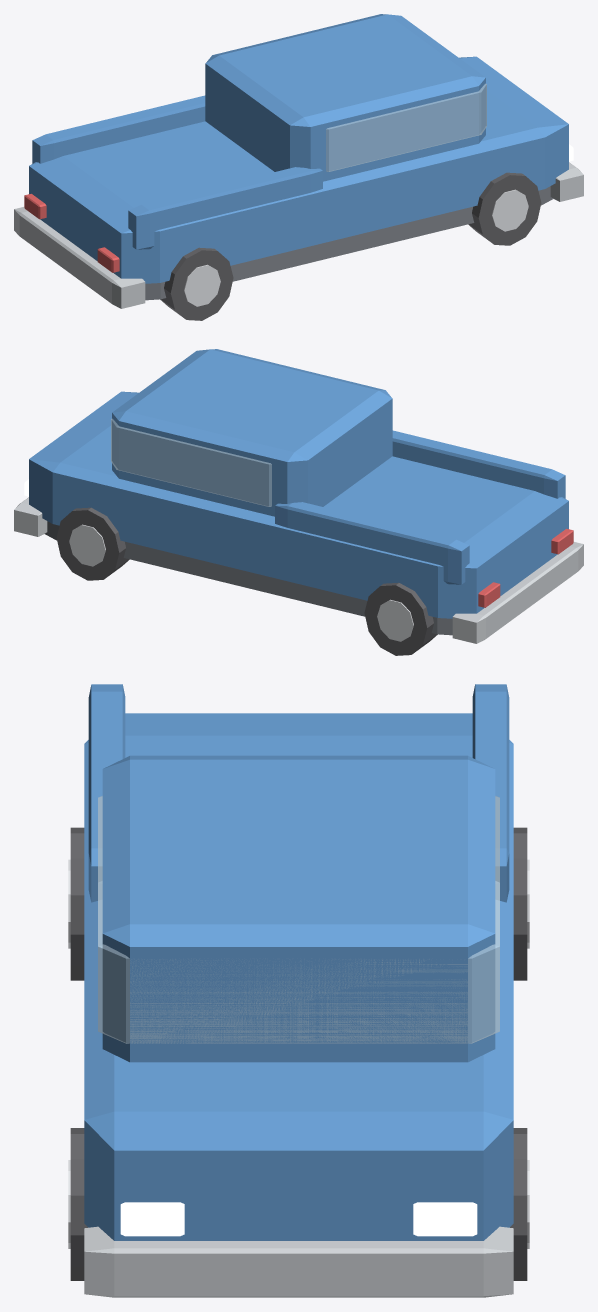
File: b03_angular_electric_pickup.glb
3 views of the same model, one above another, from view 1: azimuth 30°, elevation 25°; view 2: azimuth 150°, elevation 25°; view 3: azimuth 270°, elevation 25° (orthographic). The views are drawn at different scales.
Parts seen in each view (by area): view 1: b03_angular_electric_pickup; view 2: b03_angular_electric_pickup; view 3: b03_angular_electric_pickup.
Boxes of the visible parts, left/top/right/bottom form: b03_angular_electric_pickup: left=14, top=14, right=583, bottom=320; b03_angular_electric_pickup: left=14, top=349, right=583, bottom=655; b03_angular_electric_pickup: left=68, top=684, right=529, bottom=1297.
Size of the model in its own units: 5.89 by 1.98 by 2.52.
